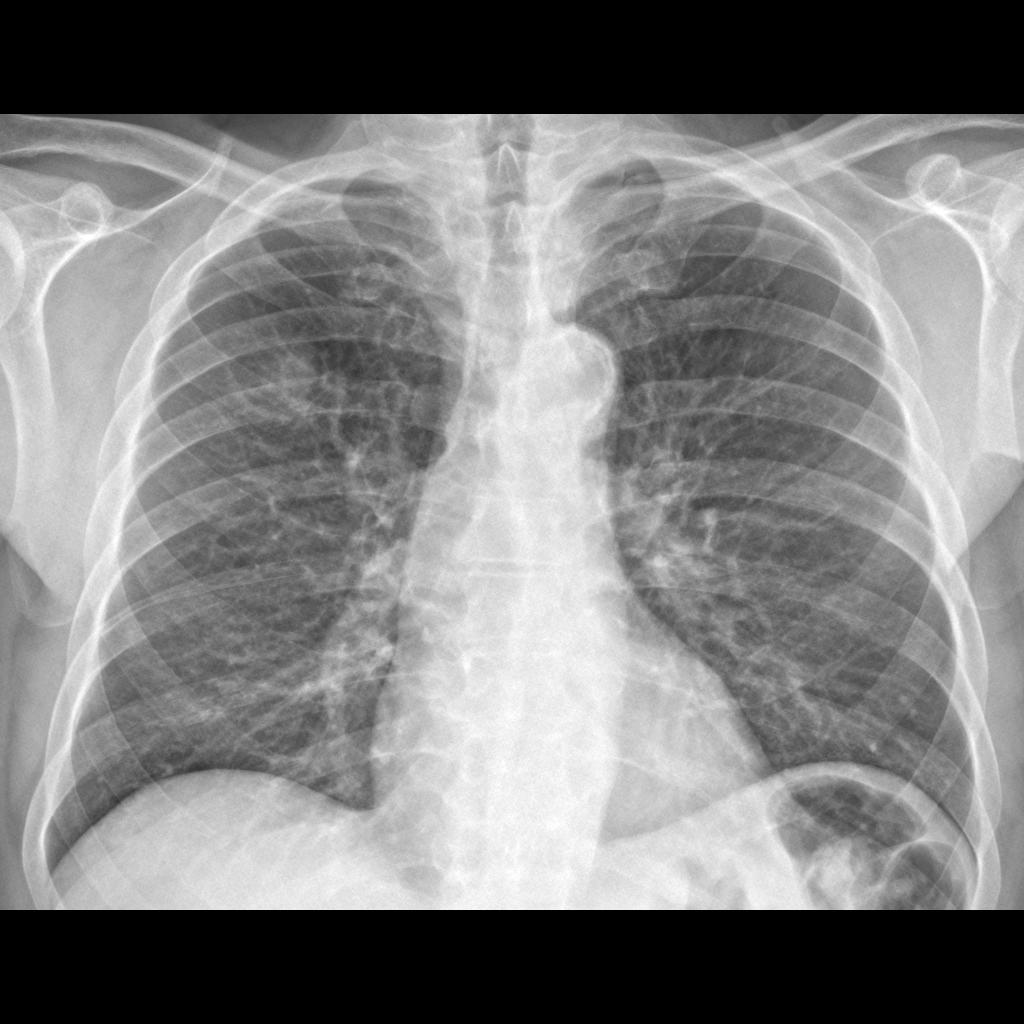Nodule: (270, 346, 337, 413)
